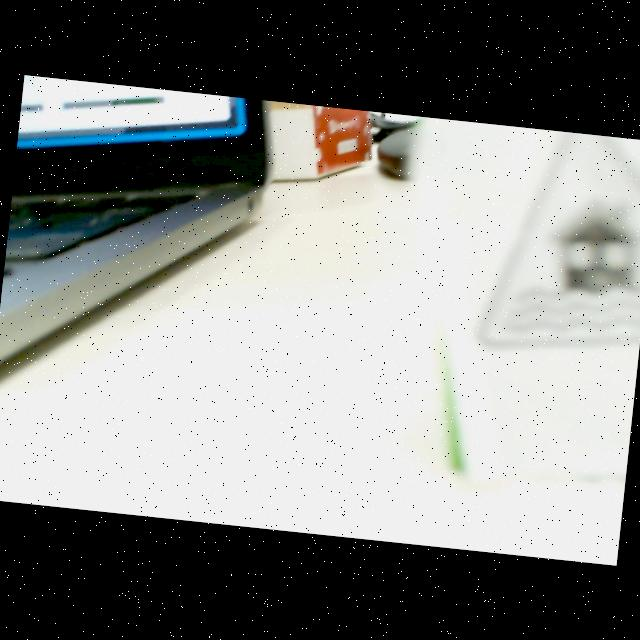Tsunami: (473, 131, 640, 352)
